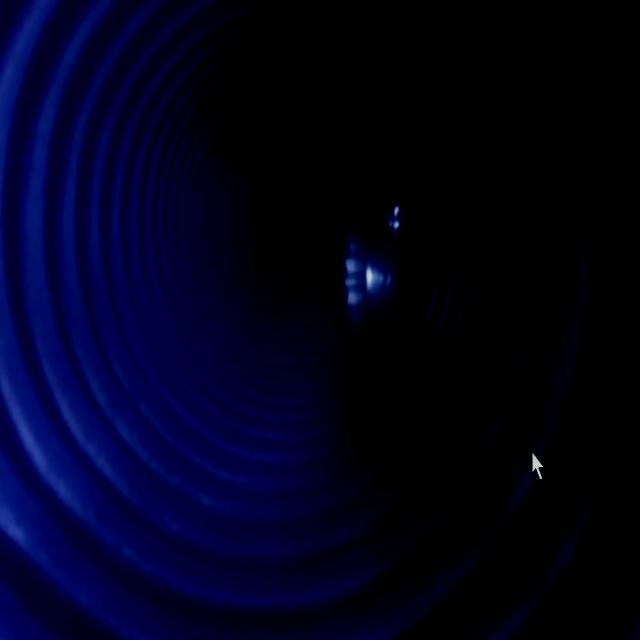metal piece: (344, 200, 405, 333)
